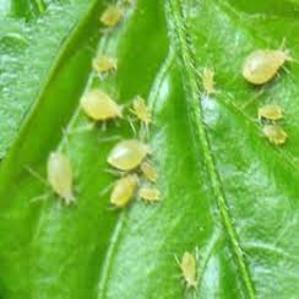Green peach aphid: (25, 133, 94, 213), (231, 35, 299, 99), (159, 239, 220, 299), (72, 79, 129, 134), (92, 164, 141, 222), (91, 128, 153, 168), (184, 59, 233, 109), (81, 47, 131, 84), (94, 1, 141, 37), (246, 118, 292, 151), (128, 89, 158, 132), (242, 98, 290, 124), (129, 180, 164, 214), (136, 155, 161, 182)
